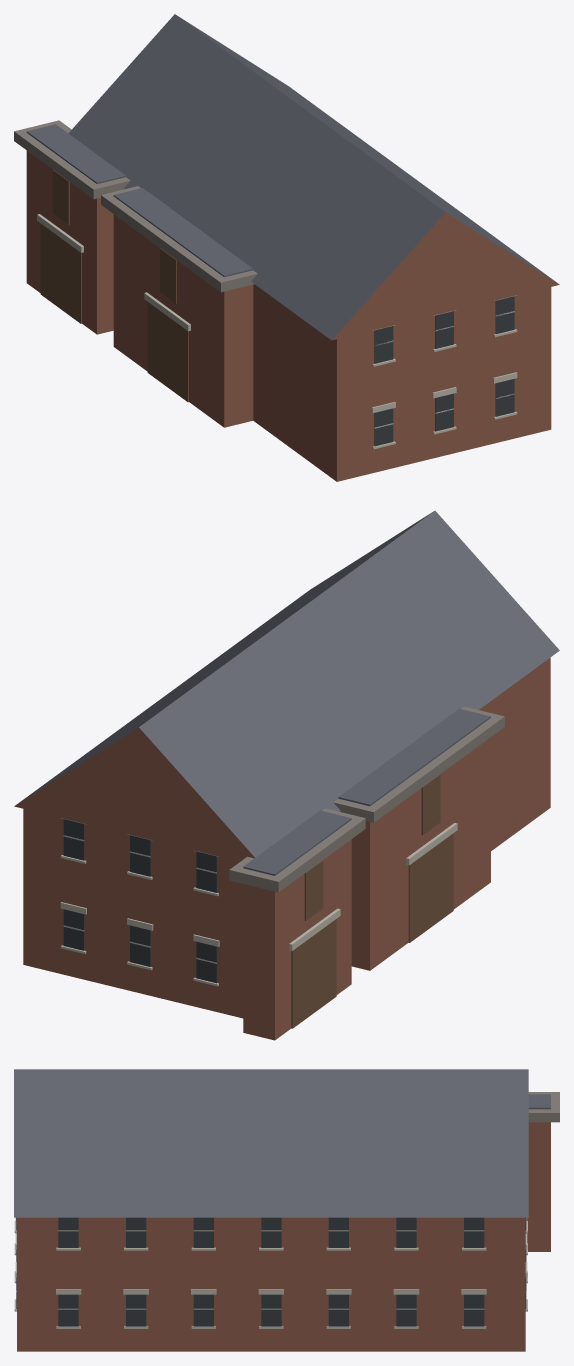
The model's file is henderson_house_1816_prairie_coach_house__draft_1904.glb.
The picture shows the model from 3 angles, top to bottom: view 1: azimuth 30°, elevation 25°; view 2: azimuth 150°, elevation 25°; view 3: azimuth 270°, elevation 25°; orthographic projection. The views are drawn at different scales.
Parts seen in each view (by area): view 1: henderson_house_1816_prairie_coach_house__draft_1904; view 2: henderson_house_1816_prairie_coach_house__draft_1904; view 3: henderson_house_1816_prairie_coach_house__draft_1904.
Boxes of the visible parts, x1,y1,x2,y2 form: henderson_house_1816_prairie_coach_house__draft_1904: [14, 14, 559, 481]; henderson_house_1816_prairie_coach_house__draft_1904: [14, 510, 559, 1040]; henderson_house_1816_prairie_coach_house__draft_1904: [14, 1069, 559, 1351].
Bounding box in the file's own units: 11.15 × 10.08 × 21.47.
